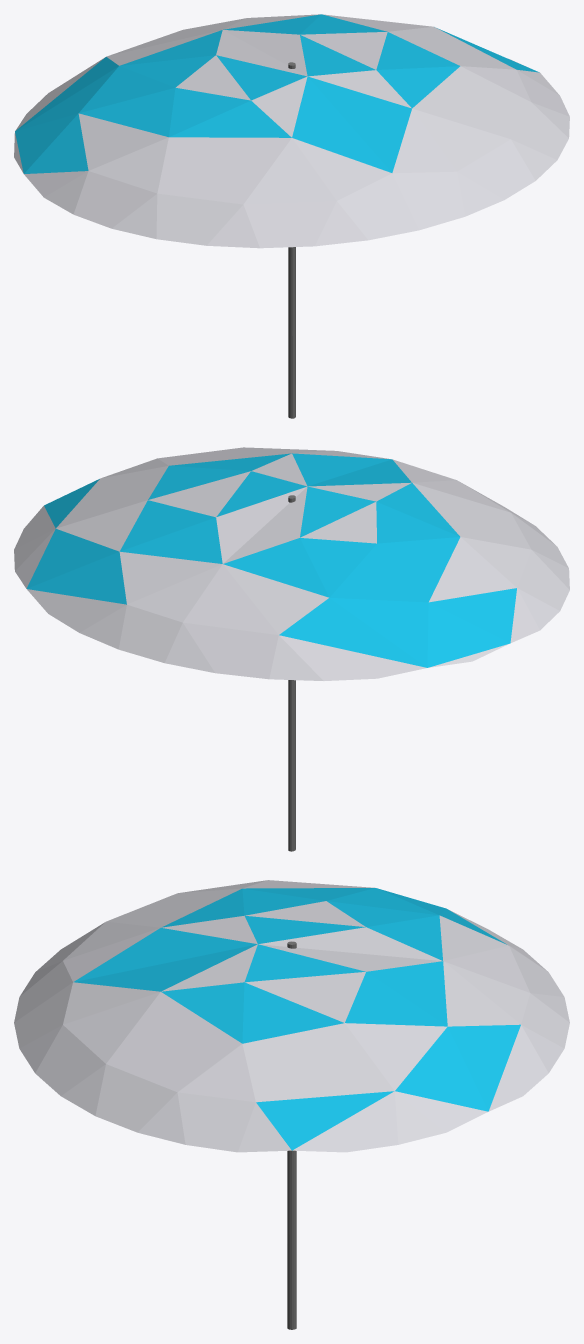
File: Beach Umbrella 2.glb
3 renders of one model, top to bottom at view 1: azimuth 30°, elevation 25°; view 2: azimuth 150°, elevation 25°; view 3: azimuth 270°, elevation 25°, orthographic. The views are drawn at different scales.
Parts seen in each view (by area): view 1: Beach Umbrella; view 2: Beach Umbrella; view 3: Beach Umbrella.
Boxes of the visible parts, x1,y1,x2,y2 form: Beach Umbrella: [14, 14, 569, 418]; Beach Umbrella: [14, 447, 569, 851]; Beach Umbrella: [14, 880, 569, 1329].
Size of what is drawn, in the model's own units: 4.14 by 2.81 by 3.68.
